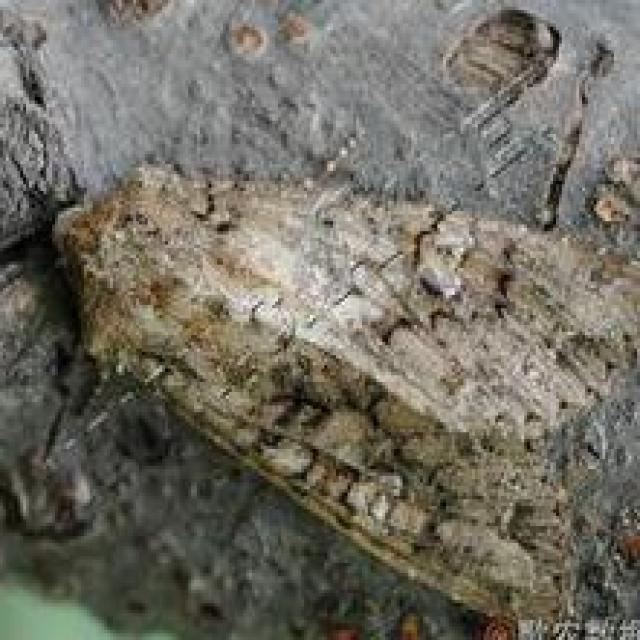armyworm: (4, 147, 632, 636)
